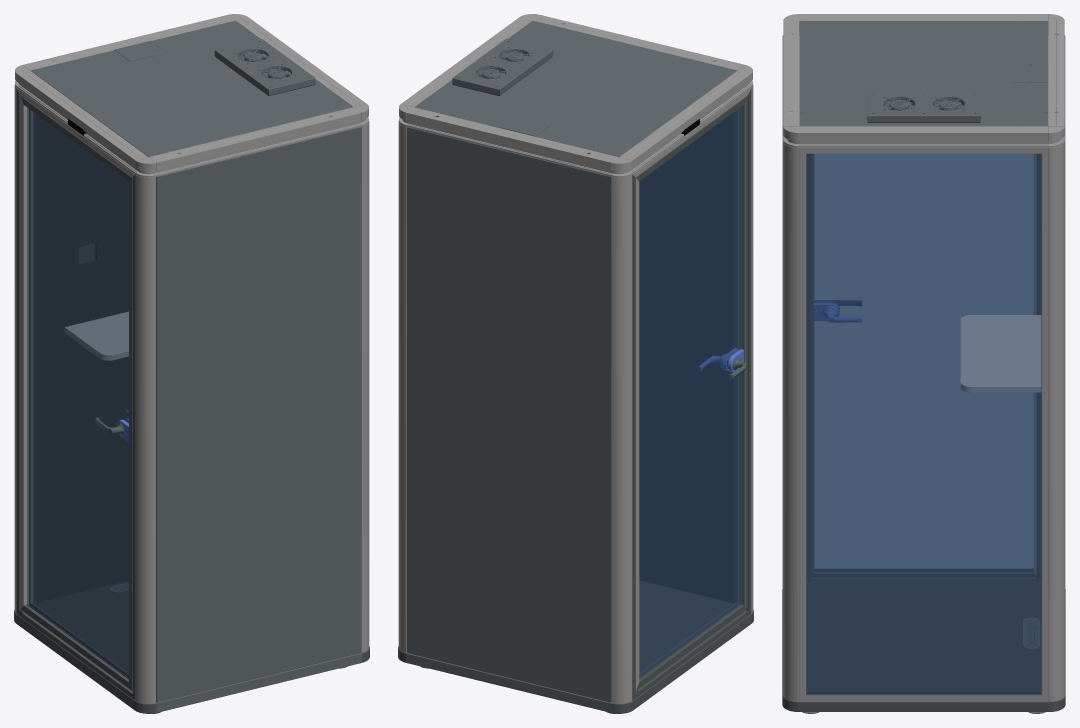
File: snapod-assembly.glb
3 renders of one model, left to right at view 1: azimuth 30°, elevation 25°; view 2: azimuth 150°, elevation 25°; view 3: azimuth 270°, elevation 25°, orthographic. The views are drawn at different scales.
Visible parts, largest first — view 1: CAD_193, CAD_119, CAD_235, CAD_067, CAD_040, CAD_118, CAD_042, CAD_050, CAD_036, CAD_108, CAD_048, CAD_072 (+13 smaller); view 2: CAD_236, CAD_119, CAD_192, CAD_067, CAD_045, CAD_116, CAD_041, CAD_049, CAD_036, CAD_107, CAD_048, CAD_072 (+12 smaller); view 3: CAD_094, CAD_119, CAD_036, CAD_067, CAD_041, CAD_042, CAD_182, CAD_051, CAD_086, CAD_087, CAD_002, CAD_072 (+15 smaller).
Part boxes in pixels (x1,y1,x2,y2): CAD_193: (156,127,361,702); CAD_119: (27,108,128,677); CAD_235: (36,114,128,602); CAD_067: (31,20,352,156); CAD_040: (135,175,155,703); CAD_118: (20,97,32,608); CAD_042: (361,121,369,652); CAD_050: (149,107,361,176); CAD_036: (36,580,128,672); CAD_108: (16,88,35,613); CAD_048: (17,70,148,173); CAD_072: (214,38,315,95); CAD_236: (406,127,611,702); CAD_119: (639,108,740,677); CAD_192: (639,114,731,602); CAD_067: (415,20,736,156); CAD_045: (612,175,632,703); CAD_116: (735,97,747,608); CAD_041: (398,121,406,652); CAD_049: (406,107,618,176); CAD_036: (639,580,731,672); CAD_107: (732,88,751,613); CAD_048: (619,70,750,173); CAD_072: (452,38,553,95); CAD_094: (806,153,1041,695); CAD_119: (814,154,1032,570); CAD_036: (807,581,1040,693); CAD_067: (799,21,1048,126); CAD_041: (1048,141,1064,701); CAD_042: (783,141,799,701); CAD_182: (960,315,1040,392); CAD_051: (799,126,1048,147); CAD_086: (1041,148,1048,701); CAD_087: (799,148,806,701); CAD_002: (782,695,1065,711); CAD_072: (867,91,980,122).
Bounding box in the file's own units: 1.05 × 2.32 × 1.
